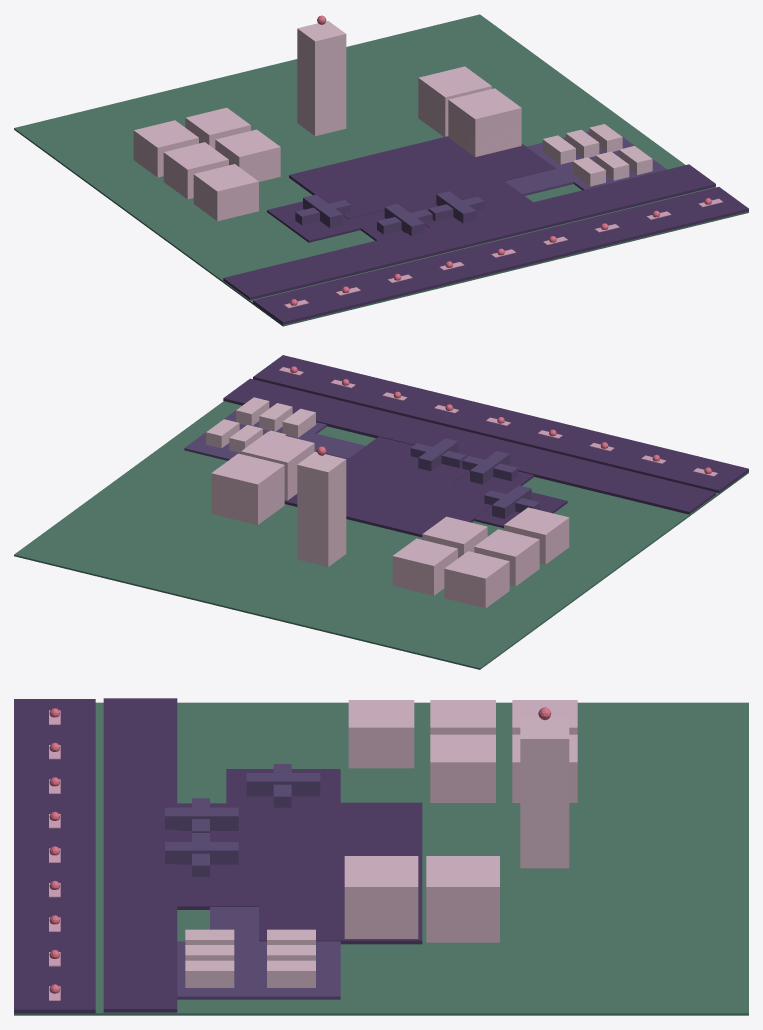
The model's file is stage_19.glb.
The picture shows the model from 3 angles, top to bottom: view 1: azimuth 30°, elevation 25°; view 2: azimuth 150°, elevation 25°; view 3: azimuth 270°, elevation 25°; orthographic projection. The views are drawn at different scales.
Parts seen in each view (by area): view 1: geometry_0; view 2: geometry_0; view 3: geometry_0.
Boxes of the visible parts, <box> form: geometry_0: <box>14,14,748,326</box>; geometry_0: <box>14,355,748,669</box>; geometry_0: <box>14,698,748,1015</box>.
Size of the model in its own units: 9 by 2.06 by 9.
